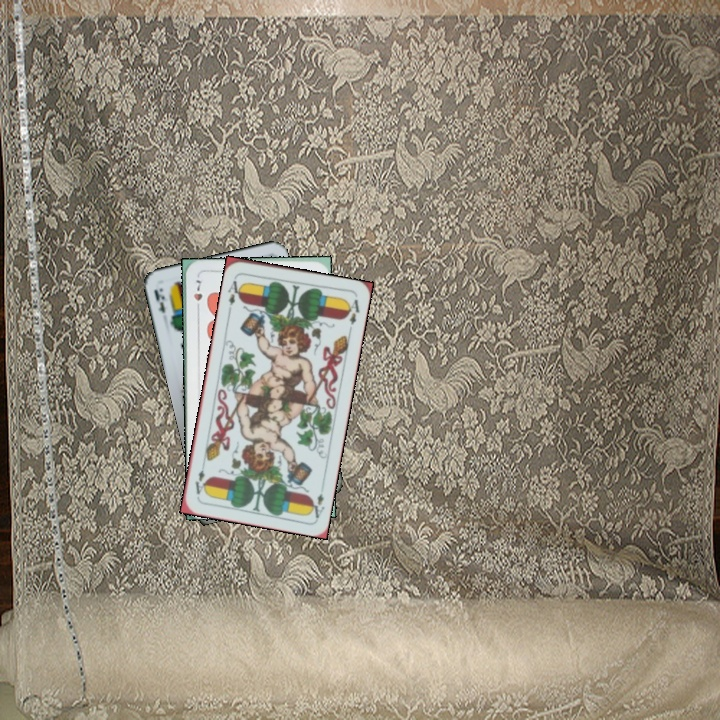EA: (224, 273, 245, 313), (306, 489, 327, 521)
EK: (150, 285, 168, 316)
H7: (190, 276, 205, 314)
